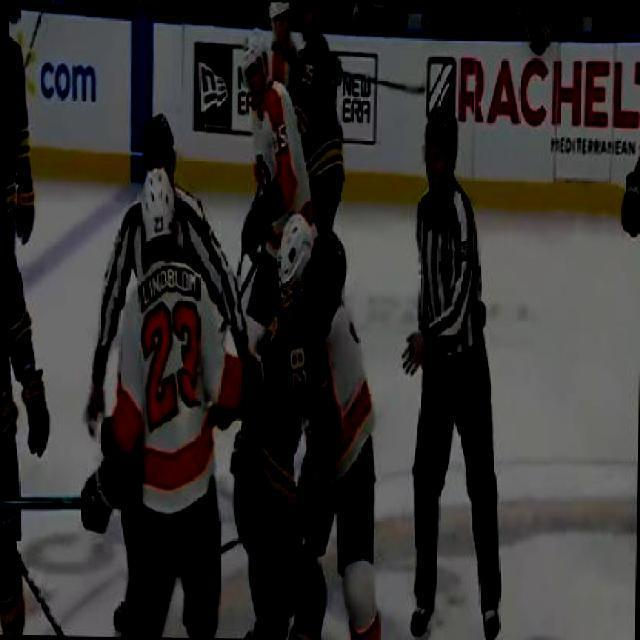fight: (235, 216, 388, 638)
non-fight: (97, 167, 240, 638), (396, 107, 514, 638)
